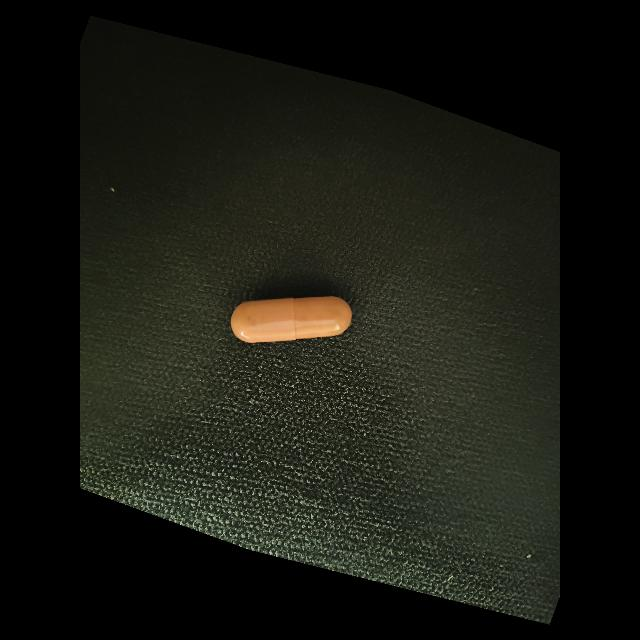Intact Capsule: (231, 296, 352, 343)
